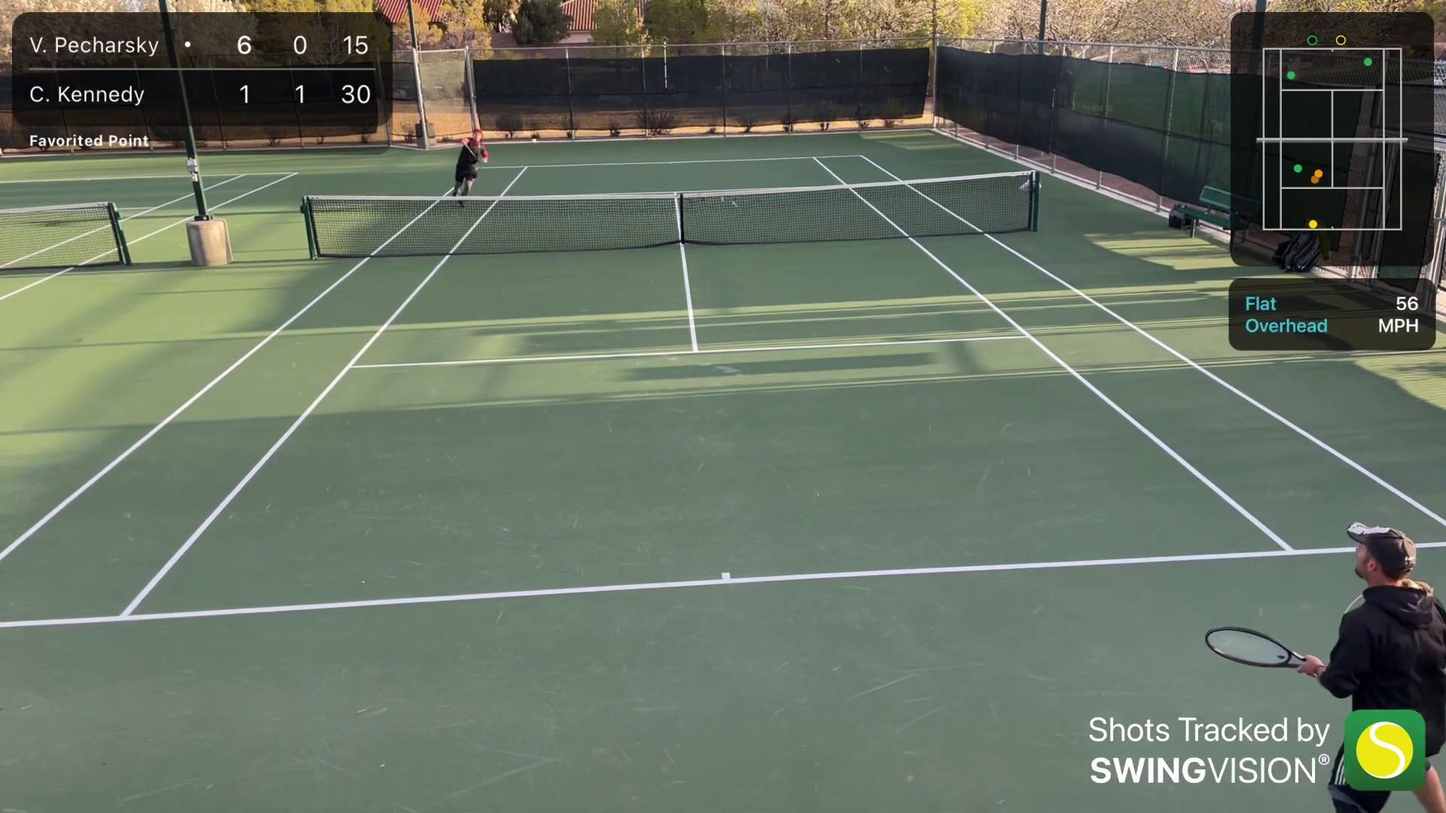ball: (531, 139, 538, 145)
